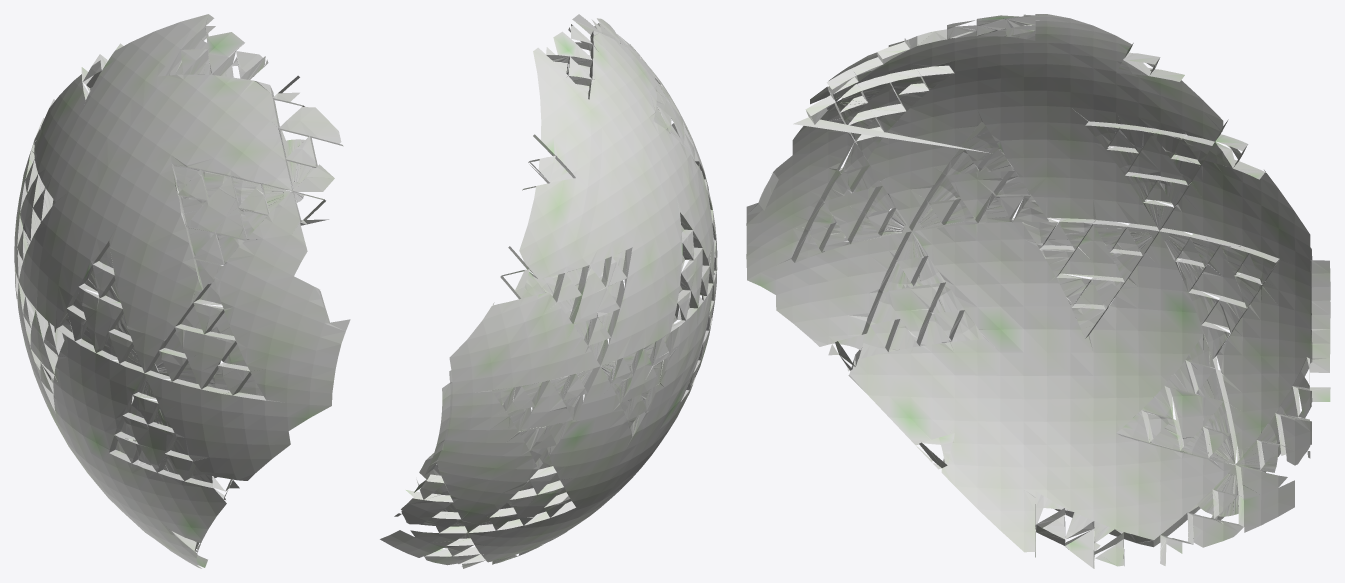
3 views of the same model, side by side, from view 1: azimuth 30°, elevation 25°; view 2: azimuth 150°, elevation 25°; view 3: azimuth 270°, elevation 25° (orthographic). The views are drawn at different scales.
Size of the model in its own units: 0.3173 by 0.8291 by 0.7921.
